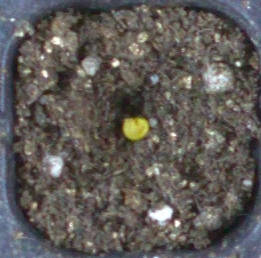chilli seed: (122, 116, 149, 140)
